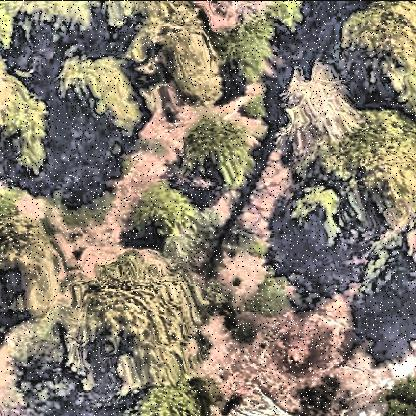tree-top: (288, 99, 415, 273), (54, 260, 194, 400), (328, 2, 416, 101), (142, 2, 222, 104), (1, 318, 82, 414), (64, 50, 147, 129), (128, 174, 196, 247), (183, 121, 251, 189), (1, 207, 50, 300), (215, 14, 281, 82), (126, 371, 218, 416), (6, 92, 46, 180), (19, 1, 89, 45), (374, 373, 416, 416)
